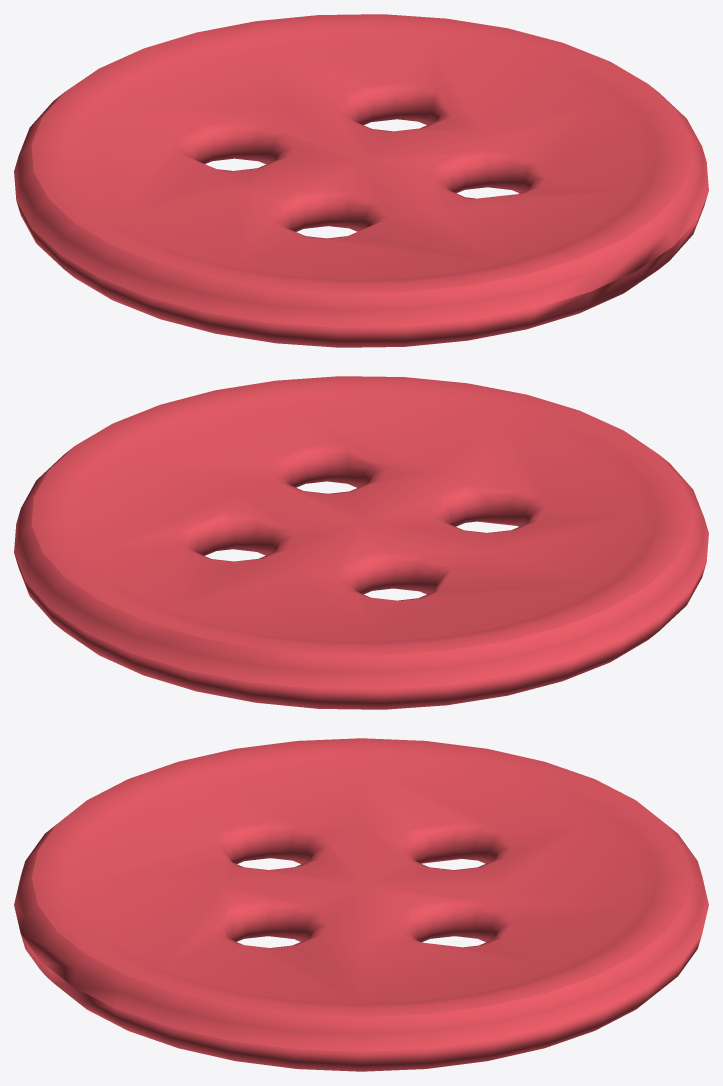
Rendered from Button.fbx.
The picture shows the model from 3 angles, top to bottom: view 1: azimuth 30°, elevation 25°; view 2: azimuth 150°, elevation 25°; view 3: azimuth 270°, elevation 25°; orthographic projection.
Parts seen in each view (by area): view 1: Cylinder; view 2: Cylinder; view 3: Cylinder.
Part boxes in pixels (box(x1,y1,x2,y2)): Cylinder: box(14, 14, 708, 347); Cylinder: box(14, 376, 708, 709); Cylinder: box(14, 738, 708, 1071).
Bounding box in the file's own units: 200 × 19.06 × 200.
